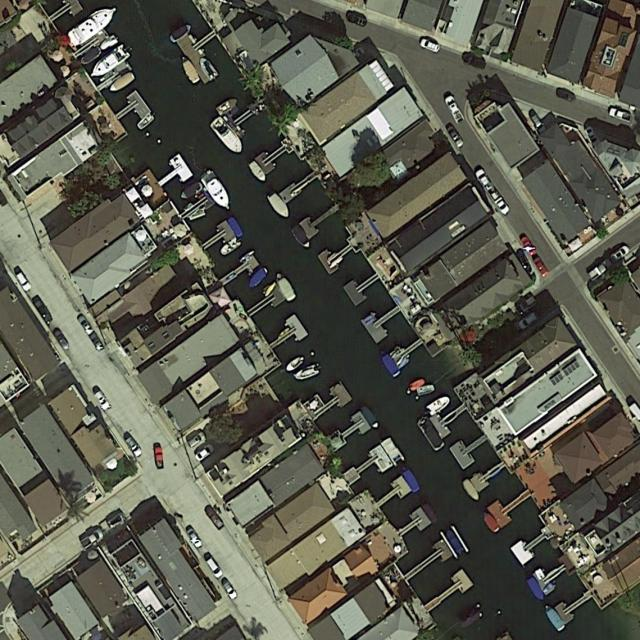large-vehicle: (587, 257, 613, 283)
ship: (67, 1, 121, 49), (88, 42, 131, 81), (208, 116, 247, 159), (199, 169, 235, 215), (415, 414, 446, 452), (265, 191, 293, 222), (273, 271, 298, 304), (542, 602, 566, 634), (178, 54, 201, 86), (288, 224, 314, 252), (107, 70, 136, 95), (378, 349, 401, 379), (399, 464, 421, 495), (167, 21, 194, 46), (425, 393, 452, 418), (197, 54, 220, 82), (524, 576, 547, 604), (246, 159, 269, 186), (246, 265, 270, 290), (460, 478, 483, 504), (215, 94, 240, 117), (179, 180, 204, 202), (360, 405, 381, 431), (419, 501, 440, 525), (444, 529, 464, 554), (294, 363, 320, 382), (219, 237, 242, 258), (79, 46, 102, 67), (480, 511, 501, 534), (99, 32, 120, 52), (227, 216, 244, 239), (136, 112, 155, 132), (284, 356, 304, 375), (408, 377, 426, 393), (417, 384, 436, 396)
small-vehicle: (29, 294, 56, 326), (78, 526, 105, 552), (488, 187, 511, 216), (444, 94, 465, 124), (123, 434, 145, 459), (445, 124, 466, 150), (184, 527, 206, 551), (474, 168, 495, 193), (205, 507, 226, 531), (75, 313, 96, 337), (204, 555, 224, 580), (52, 327, 72, 352), (609, 243, 631, 265), (105, 509, 128, 530), (14, 270, 34, 294), (462, 54, 488, 72), (194, 442, 215, 464), (529, 112, 548, 136), (518, 311, 539, 332), (519, 235, 539, 257), (188, 429, 208, 450), (220, 579, 239, 601), (583, 126, 602, 148), (88, 330, 106, 353), (517, 294, 538, 313), (93, 390, 111, 412), (419, 37, 442, 54), (609, 107, 632, 123), (346, 12, 369, 28), (533, 256, 550, 277), (555, 88, 575, 104), (154, 448, 165, 470)
